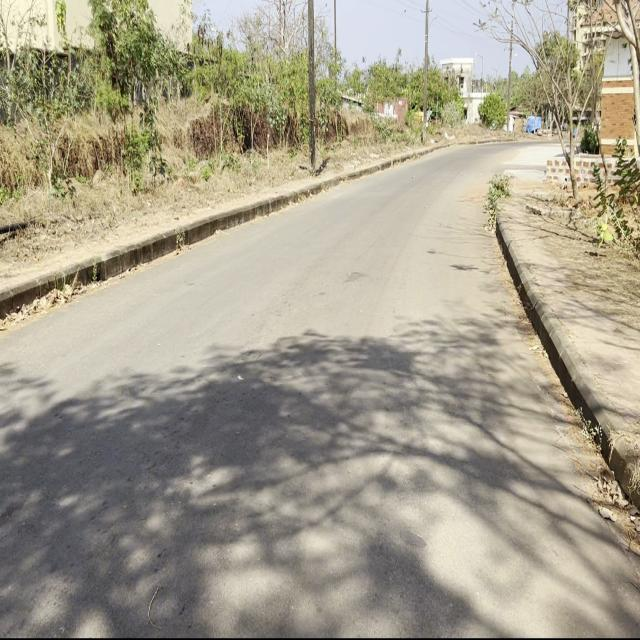Road: (0, 149, 640, 637)
